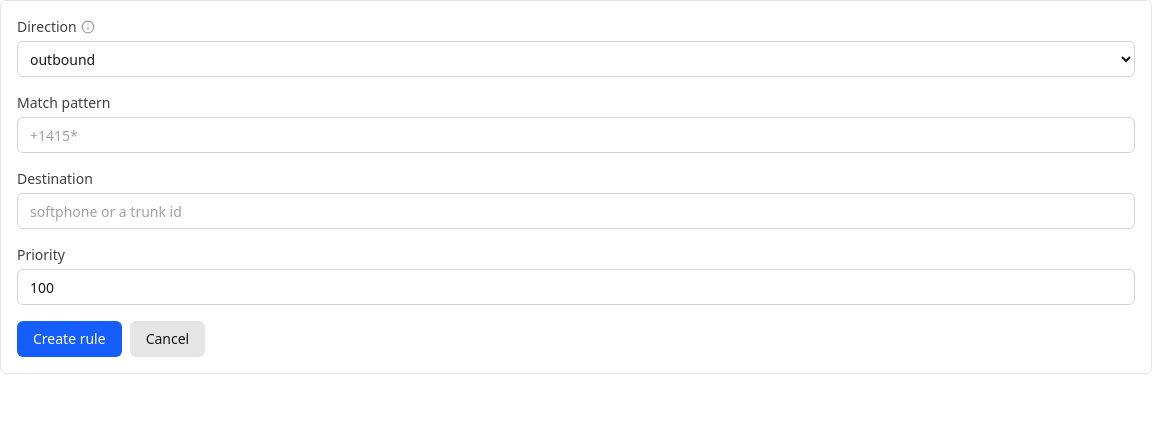
Test: RouteForm › blocks submit and shows a match error when empty
The image size is (1152, 431).
Click the button "Create rule".
click(69, 339)  # box [17,321,122,357]
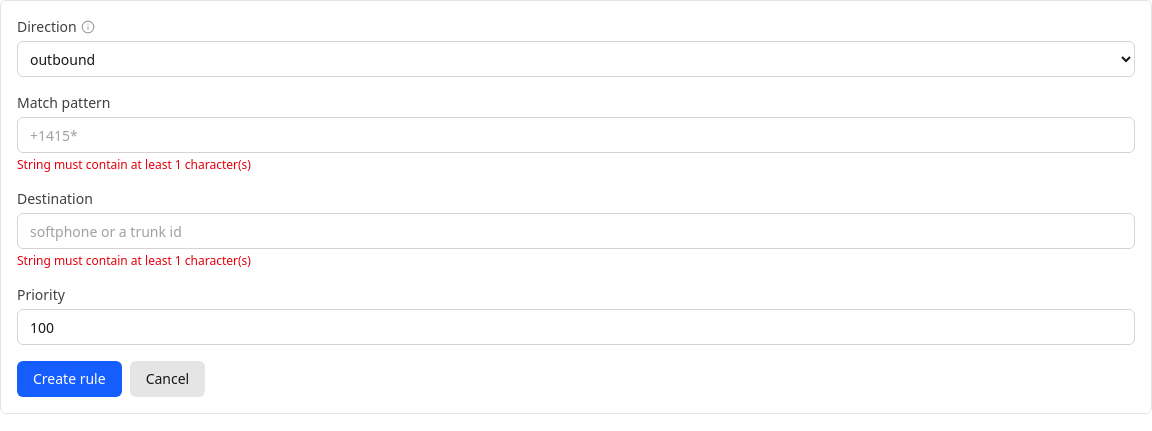
Expected: the text "String must contain at least 1 character(s)" below "Match pattern" is shown, [17,156,251,173]
